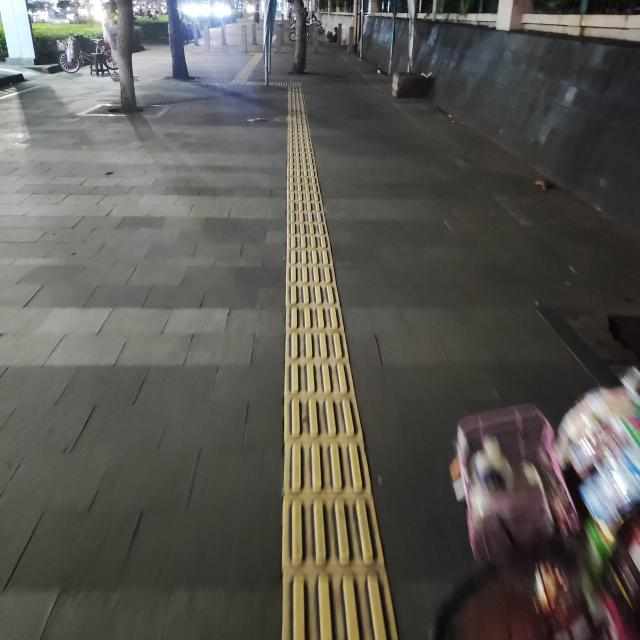lurus: (258, 85, 381, 640)
